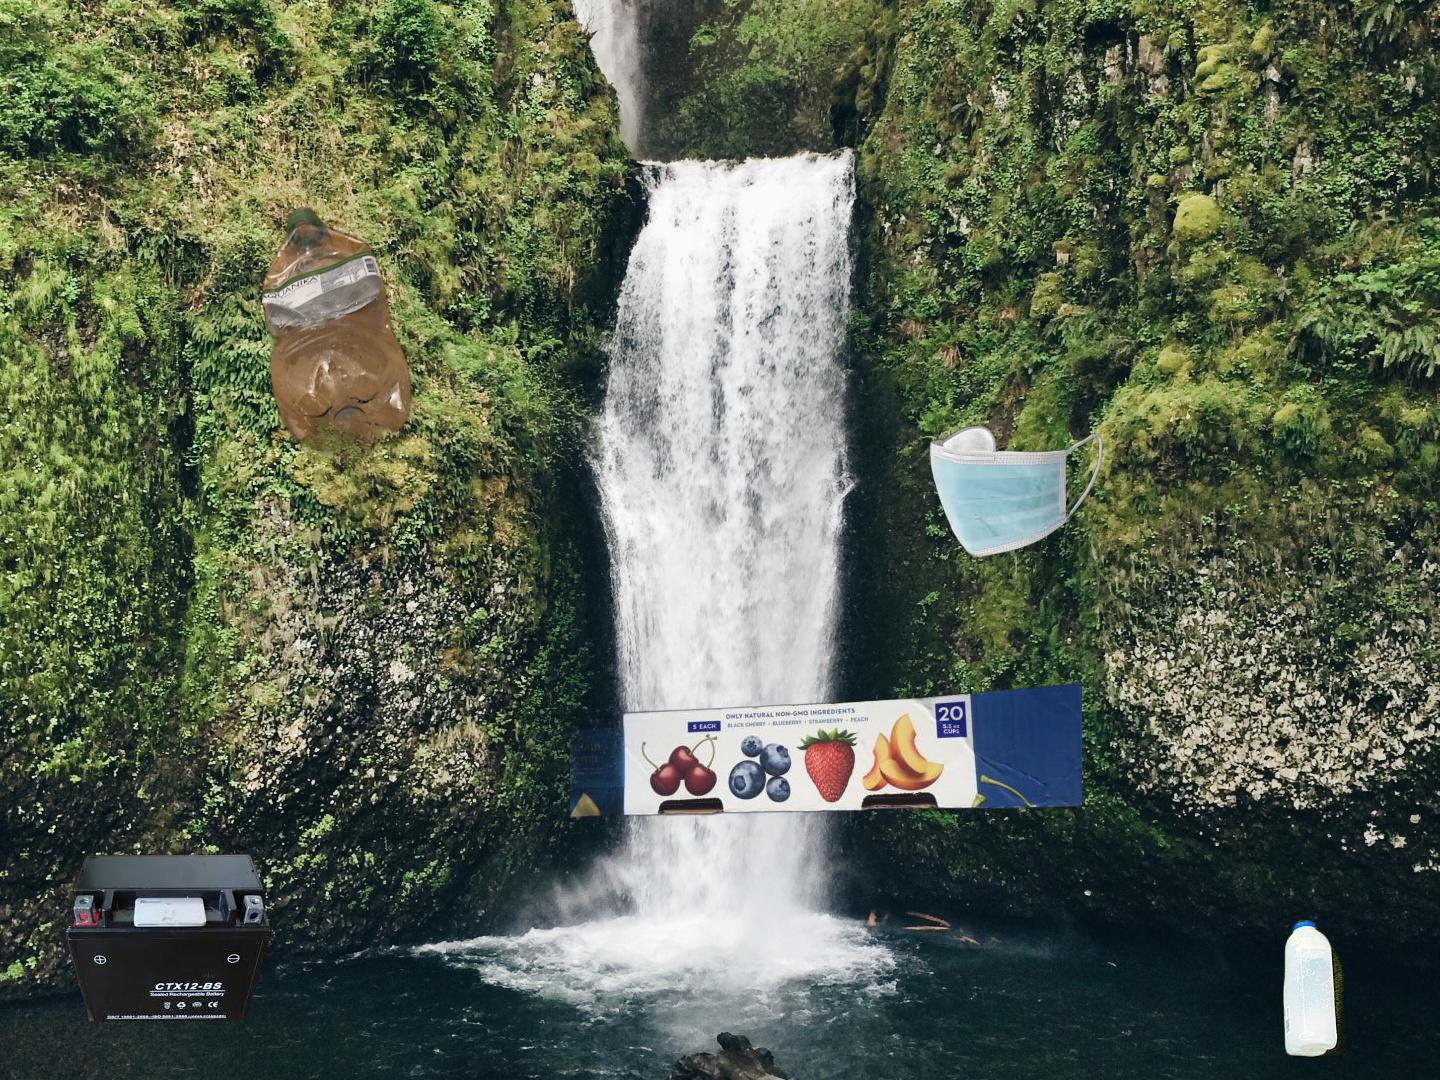battery: (63, 851, 274, 1026)
plastic-bottles: (861, 912, 1352, 1080), (259, 202, 414, 488)
trash: (926, 423, 1106, 560)
trashbox-cardboard: (570, 540, 1082, 822)
